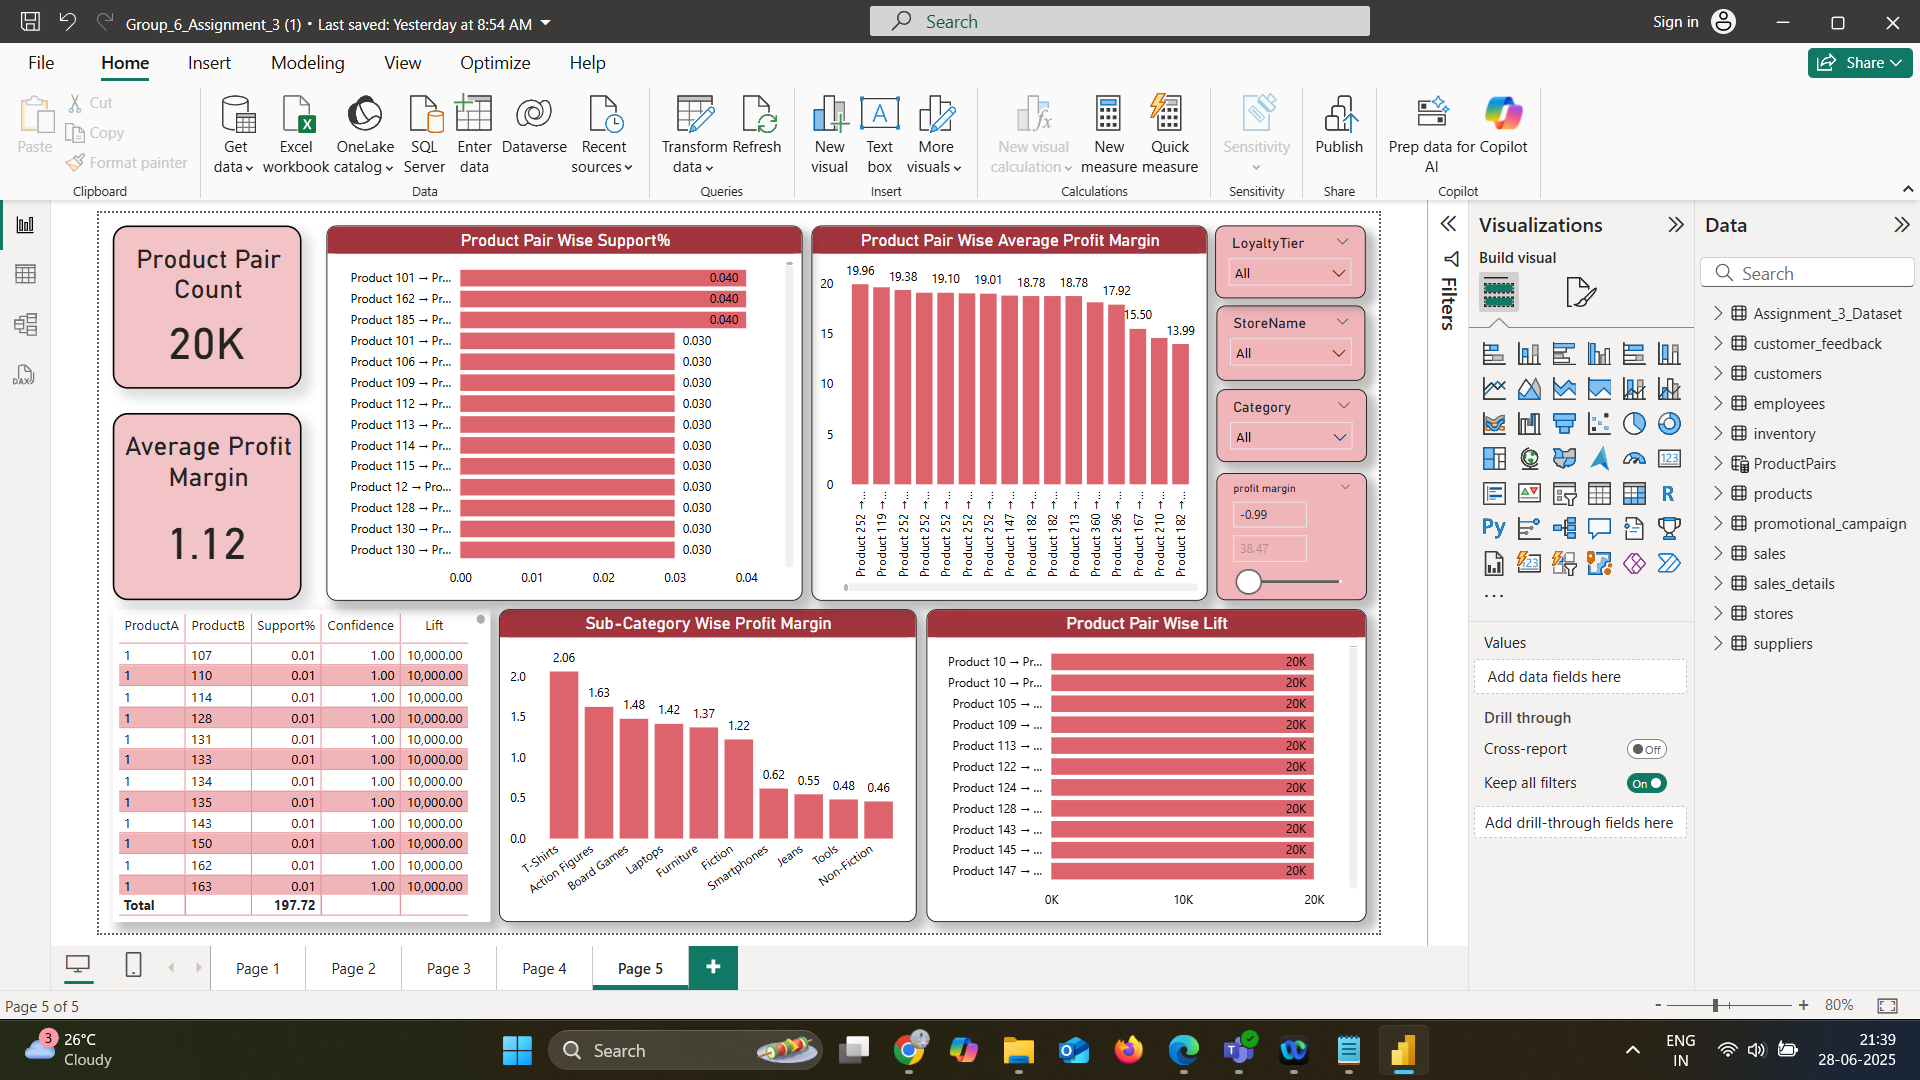

The dashboard page shown, as its layout file describes it:
{"tool":"powerbi","page":{"name":"Page 5","canvas":[1280,720],"ordinal":4},"visuals":[{"type":"tableEx","fields":{"Values":["ProductPairs.ProductA","ProductPairs.ProductB","ProductPairs.Support%","ProductPairs.Confidence","ProductPairs.Lift"]},"box":[13.8,396.2,377.5,312.5],"z":0},{"type":"clusteredColumnChart","title":"Sub-Category Wise Profit Margin","fields":{"Category":["products.Subcategory"],"Y":["Avg(products.profit margin)"]},"box":[400,396.2,417.5,312.5],"z":1000},{"type":"clusteredColumnChart","title":"Product Pair Wise Average Profit Margin","fields":{"Category":["ProductPairs.Pair"],"Y":["Avg(products.profit margin)"]},"box":[712.5,12.5,396.2,375],"z":2000},{"type":"card","title":"Product Pair Count","fields":{"Values":["ProductPairs.Product Pair Count"]},"box":[14.3,12.9,188.6,162.9],"z":3000},{"type":"card","title":"Average Profit Margin","fields":{"Values":["Avg(products.profit margin)"]},"box":[14.3,200,188.6,187.1],"z":4000},{"type":"slicer","fields":{"Values":["stores.StoreName"]},"box":[1117.5,92.5,148.8,75],"z":5000},{"type":"slicer","fields":{"Values":["products.Category"]},"box":[1117.5,176.2,150,72.5],"z":6000},{"type":"slicer","fields":{"Values":["products.profit margin"]},"box":[1117.5,260,150,127.5],"z":7000},{"type":"barChart","title":"Product Pair Wise Support%","fields":{"Category":["ProductPairs.Product Pair"],"Y":["ProductPairs.Support%"]},"box":[227.5,12.5,476.2,375],"z":7001},{"type":"barChart","title":"Product Pair Wise Lift","fields":{"Category":["ProductPairs.Product Pair"],"Y":["ProductPairs.Lift"]},"box":[827.5,396.2,440,312.5],"z":7002},{"type":"slicer","fields":{"Values":["customers.LoyaltyTier"]},"box":[1116.2,12.5,150,72.5],"z":7003}]}

Visuals, with their boxes on the page's 1280x720 design canvas (x1, y1, x2, y2). These are canvas units, not pixel positions in the 1920x1080 screenshot, which may show the page scaled, cropped or inside an application window:
tableEx - ProductPairs.ProductA x ProductPairs.ProductB: x1=14 y1=396 x2=391 y2=709
"Sub-Category Wise Profit Margin" clusteredColumnChart: x1=400 y1=396 x2=818 y2=709
"Product Pair Wise Average Profit Margin" clusteredColumnChart: x1=712 y1=12 x2=1109 y2=388
"Product Pair Count" card: x1=14 y1=13 x2=203 y2=176
"Average Profit Margin" card: x1=14 y1=200 x2=203 y2=387
slicer - stores.StoreName: x1=1118 y1=92 x2=1266 y2=168
slicer - products.Category: x1=1118 y1=176 x2=1268 y2=249
slicer - products.profit margin: x1=1118 y1=260 x2=1268 y2=388
"Product Pair Wise Support%" barChart: x1=228 y1=12 x2=704 y2=388
"Product Pair Wise Lift" barChart: x1=828 y1=396 x2=1268 y2=709
slicer - customers.LoyaltyTier: x1=1116 y1=12 x2=1266 y2=85
